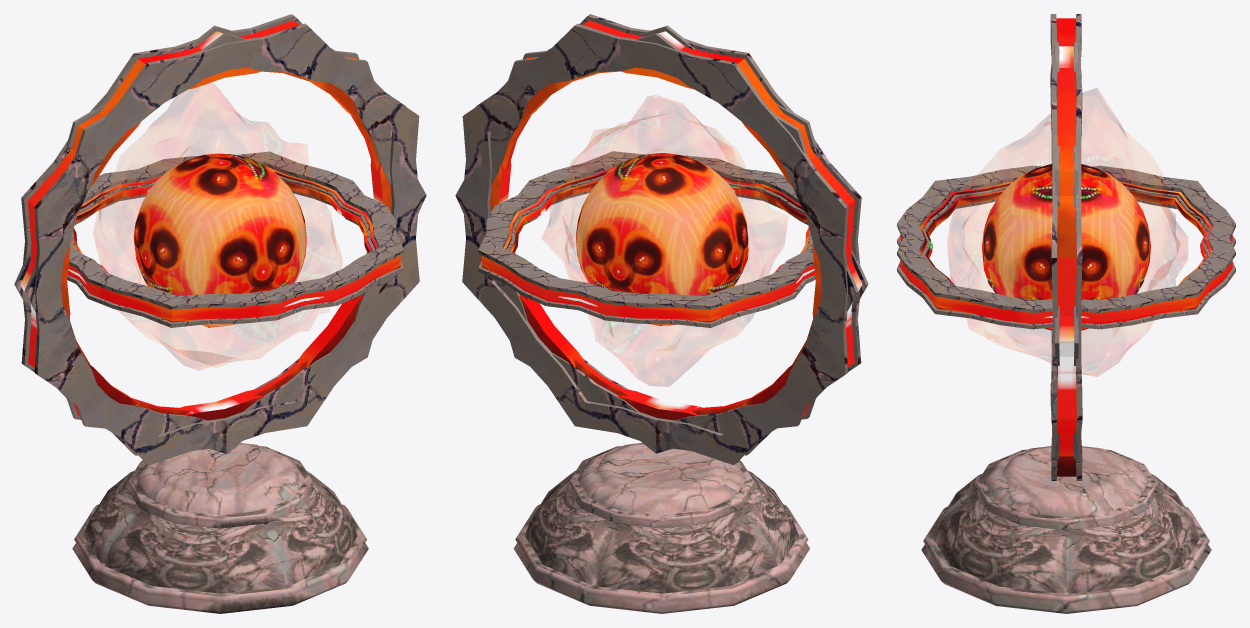
The model's file is MAGNITUDE_ALTAR.glb.
3 views of the same model, side by side, from view 1: azimuth 30°, elevation 25°; view 2: azimuth 150°, elevation 25°; view 3: azimuth 270°, elevation 25° (orthographic). The views are drawn at different scales.
Parts seen in each view (by area): view 1: ANEL2, ALTAR_BASE-COL, RIM.001, CENTER, ANEL1; view 2: ANEL2, ALTAR_BASE-COL, CENTER, RIM.001, ANEL1; view 3: ALTAR_BASE-COL, ANEL1, RIM.001, CENTER, ANEL2.
Part boxes in pixels (x1=…): ANEL2: x1=14, y1=14, x2=426, y2=465; ALTAR_BASE-COL: x1=72, y1=443, x2=368, y2=613; RIM.001: x1=93, y1=82, x2=341, y2=370; CENTER: x1=133, y1=153, x2=306, y2=327; ANEL1: x1=67, y1=151, x2=403, y2=327; ANEL2: x1=455, y1=14, x2=868, y2=464; ALTAR_BASE-COL: x1=513, y1=443, x2=809, y2=613; CENTER: x1=576, y1=153, x2=748, y2=325; RIM.001: x1=541, y1=95, x2=787, y2=386; ANEL1: x1=478, y1=151, x2=815, y2=327; ALTAR_BASE-COL: x1=921, y1=446, x2=1211, y2=613; ANEL1: x1=897, y1=165, x2=1235, y2=329; RIM.001: x1=947, y1=88, x2=1187, y2=376; CENTER: x1=982, y1=164, x2=1151, y2=330; ANEL2: x1=1050, y1=14, x2=1082, y2=480.
Bounding box in the file's own units: 3.21 × 4 × 2.4.
Materials: 5 (5 with a texture image).
